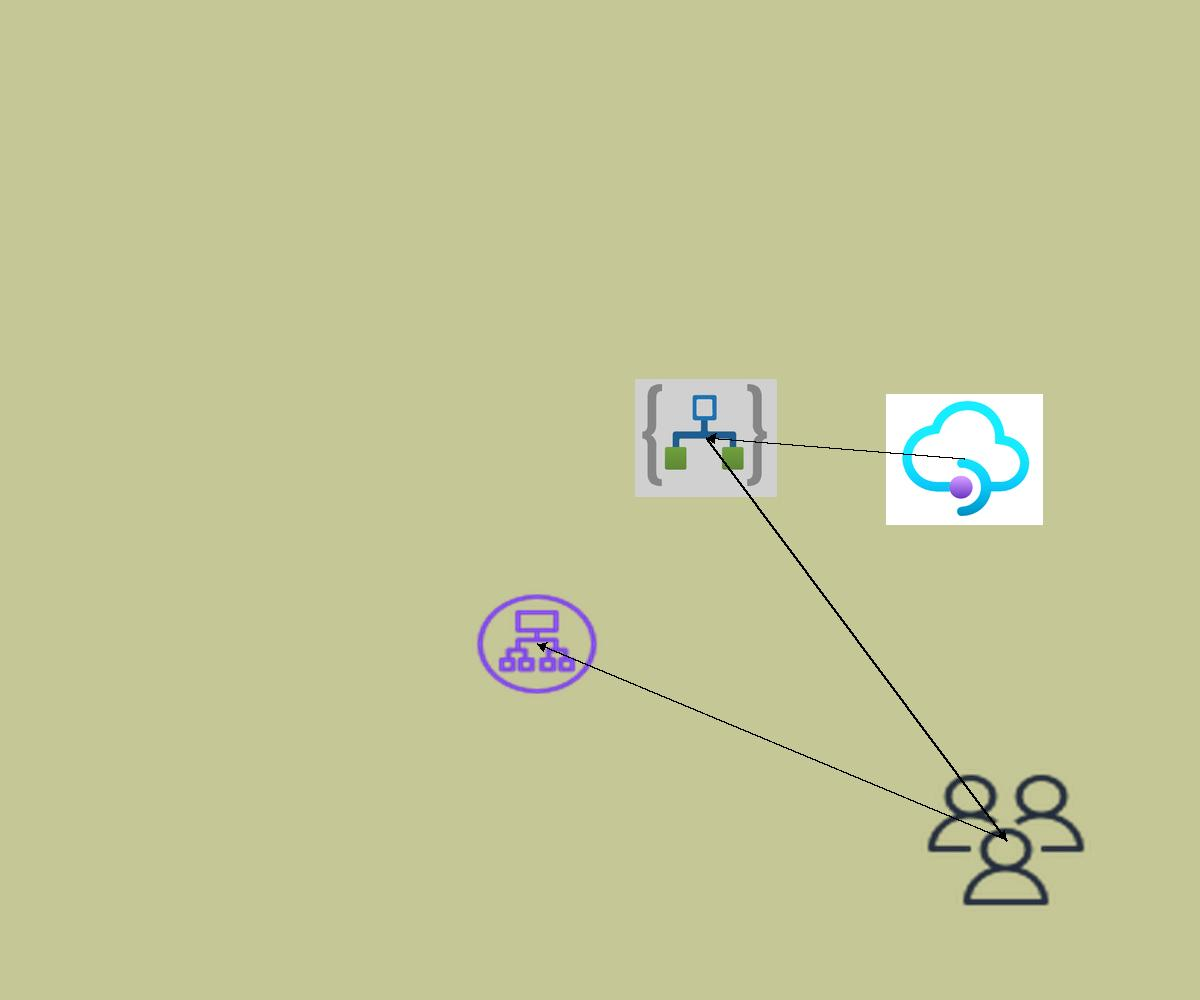AWS-Res_Elastic-Load-Balancing_Application-Load-Balancer: (472, 590, 602, 698)
AWS-Res_Users: (921, 769, 1091, 911)
Azure_api_gateway: (886, 394, 1043, 525)
Azure_integration-204-Logic-Apps: (635, 379, 777, 497)
